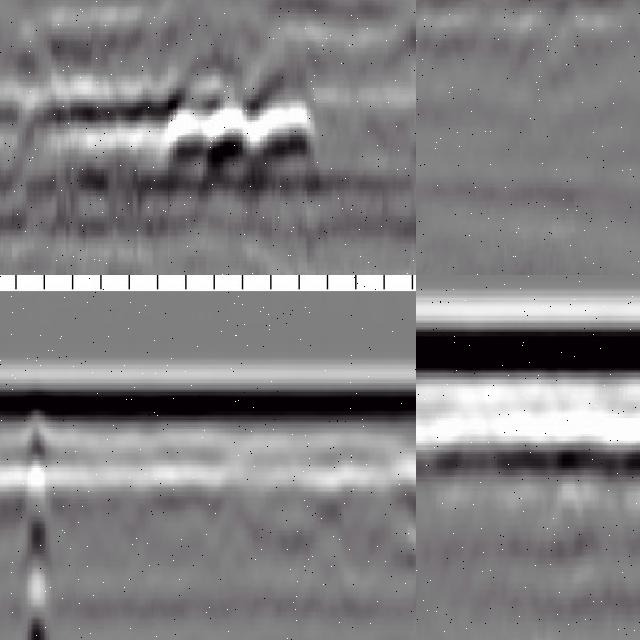crack: (20, 407, 50, 640)
loose: (43, 49, 318, 204), (417, 1, 640, 70)
